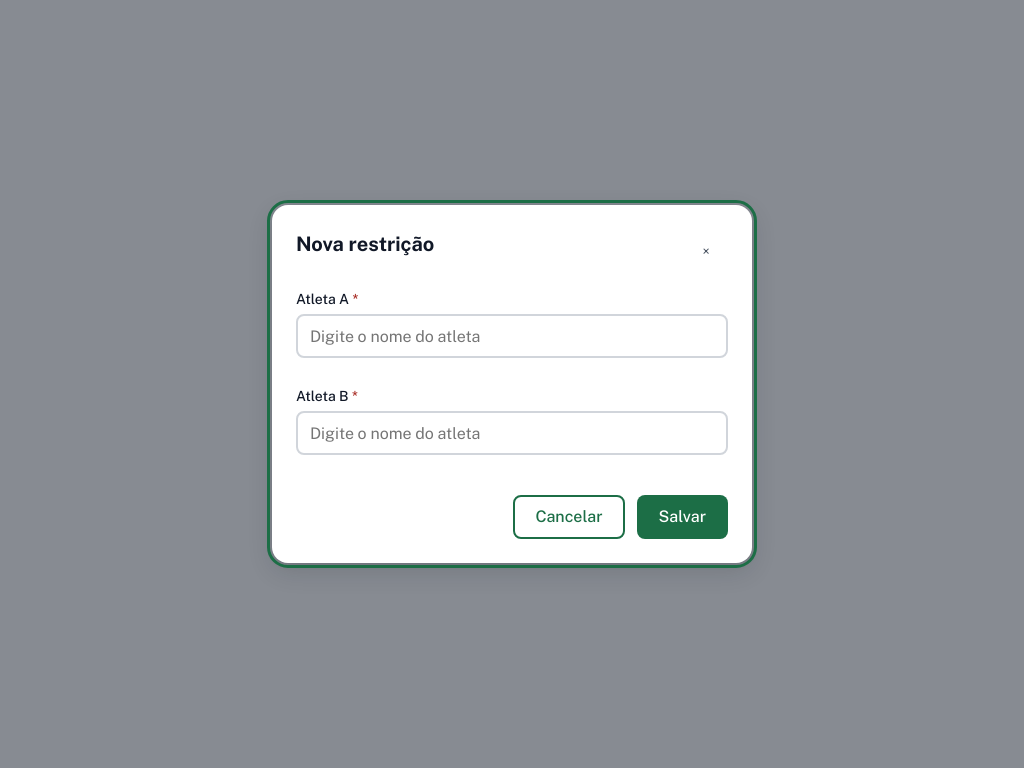
Test: RestricaoFormModal (T10, FE-10) › erro de validação do servidor (400) é mapeado para o campo correto
Step 1. Type "João" into the dropdown labelled "Atleta A" → point(512, 336), box top-left (296, 314), bottom-right (728, 358)
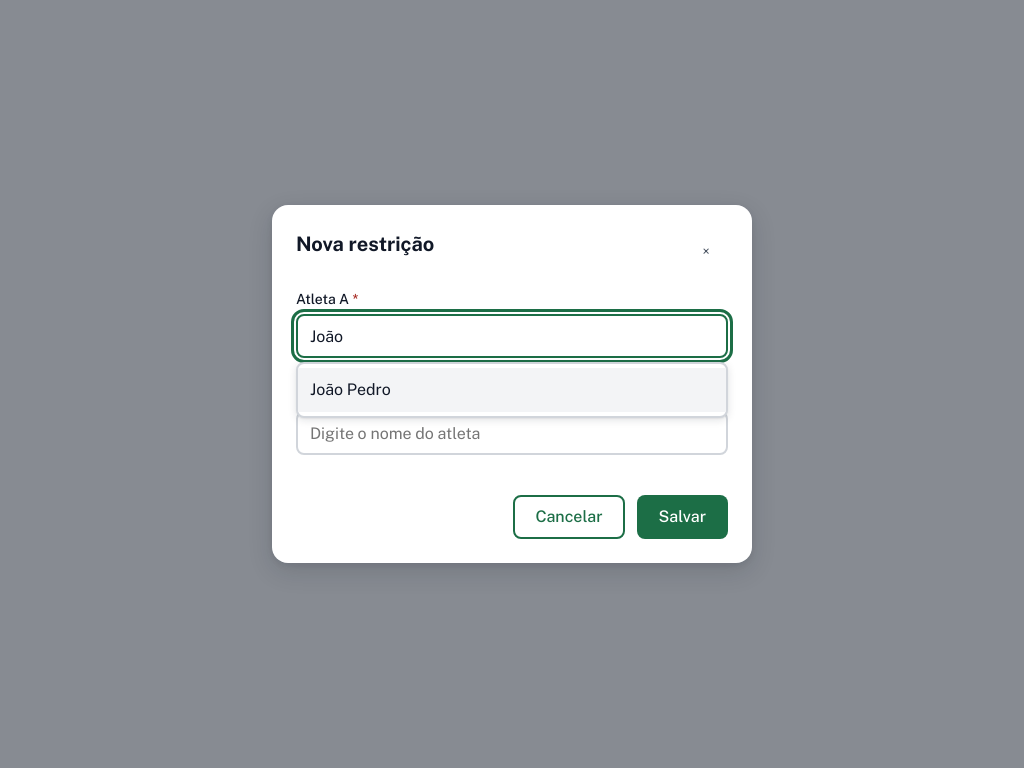
Step 2. Click the option "João Pedro" → point(350, 390), box top-left (298, 368), bottom-right (726, 412)
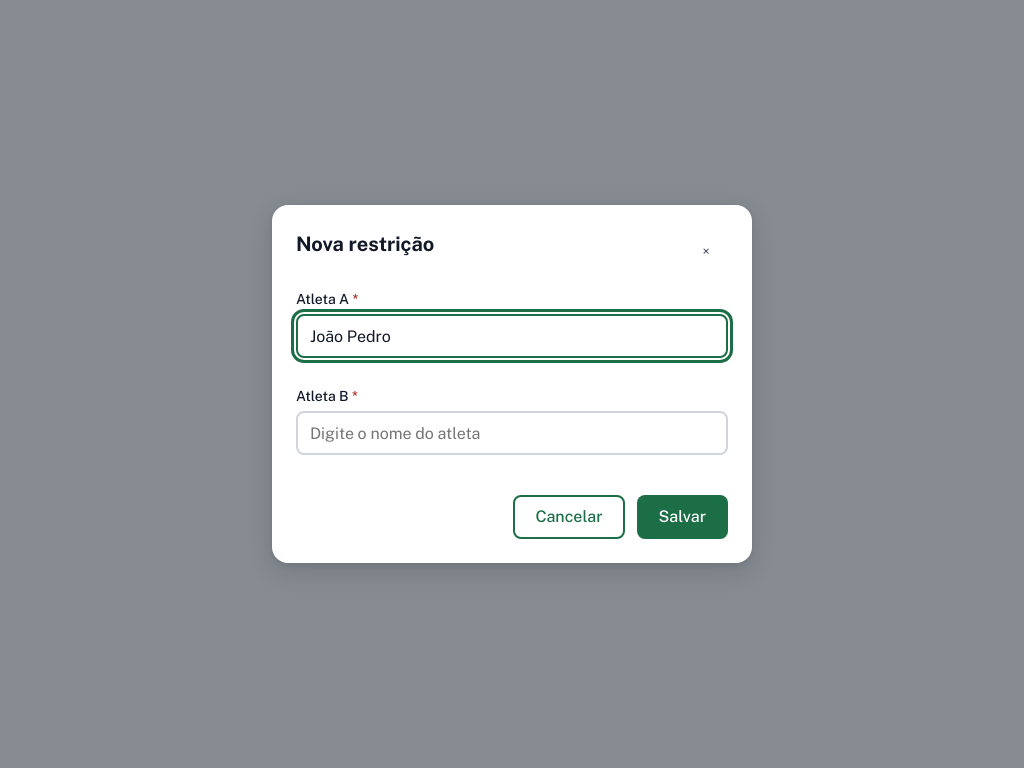
Step 3. Type "Carl" into the dropdown labelled "Atleta B" → point(512, 433), box top-left (296, 411), bottom-right (728, 455)
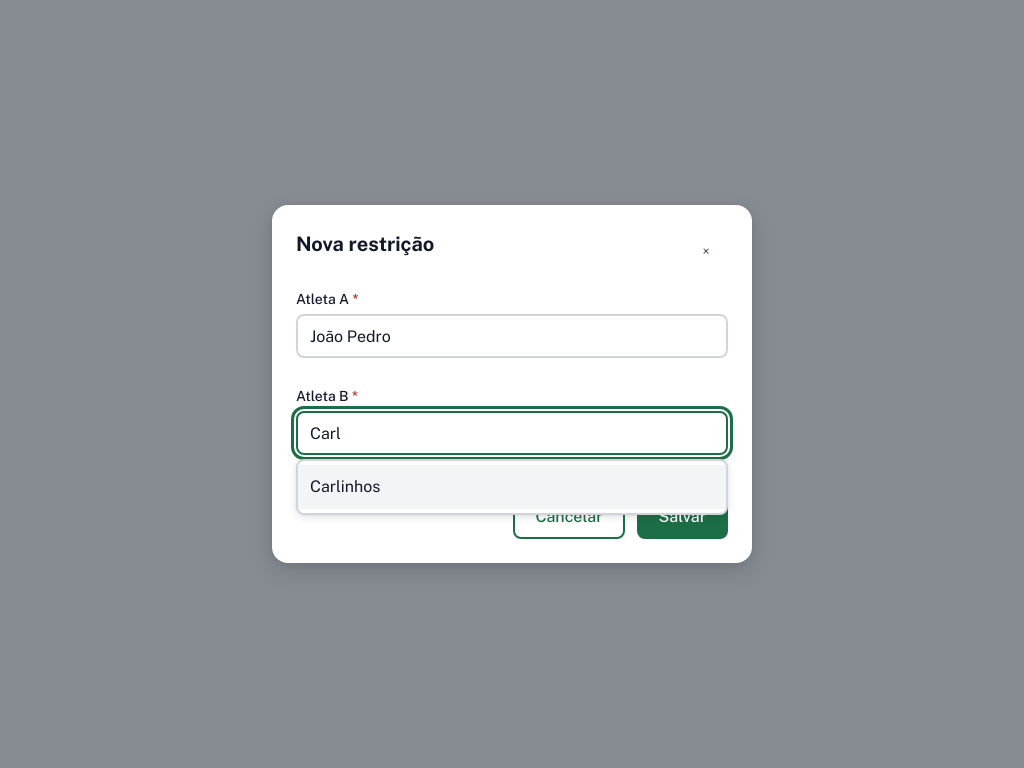
Step 4. Click the option "Carlinhos" → point(345, 486), box top-left (298, 465), bottom-right (726, 509)
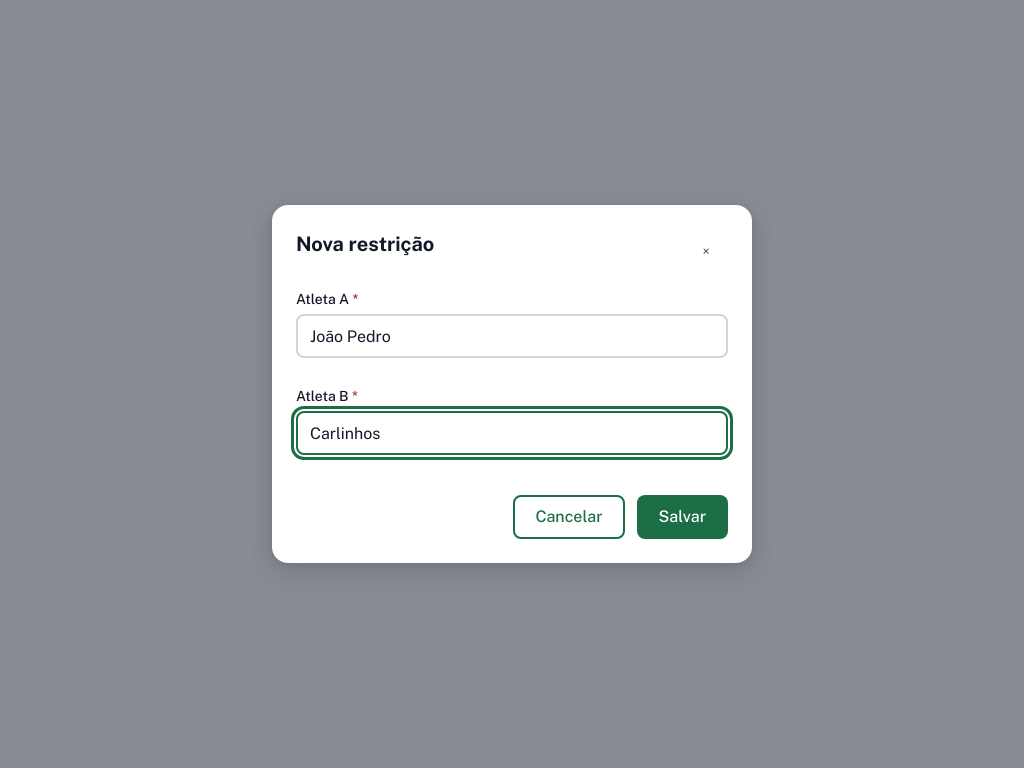
Step 5. Click the button "Salvar" → point(682, 517), box top-left (637, 495), bottom-right (728, 539)
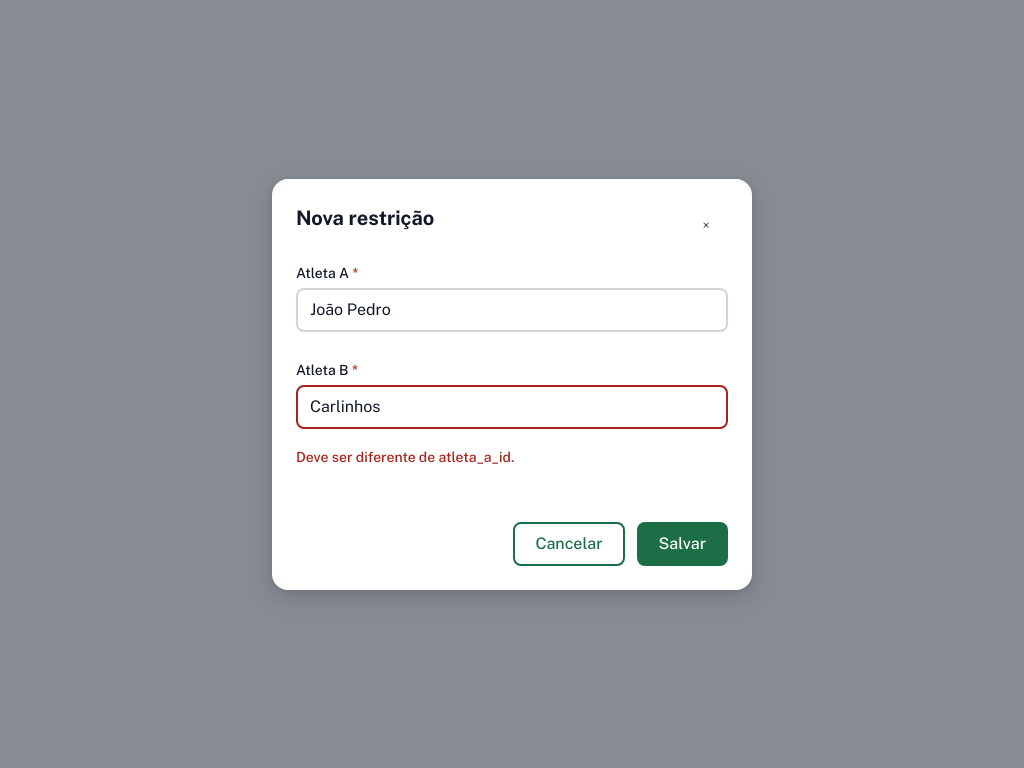
Result: the text "Deve ser diferente de atleta_a_id." is shown at top-left (296, 448), bottom-right (514, 464)
